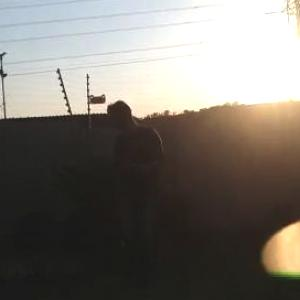follow: (110, 96, 176, 299)
